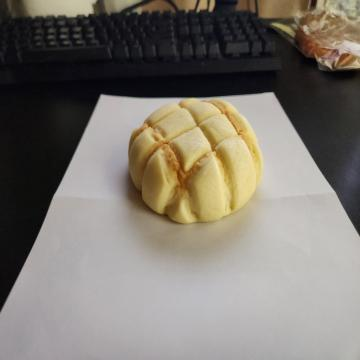melon_bread: (126, 97, 260, 225)
